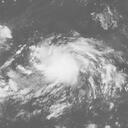cyclone: (38, 41, 83, 84)
